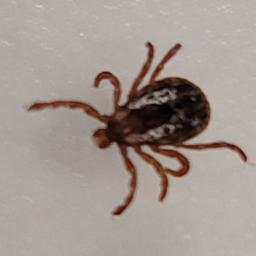Dermacentor variabilis: (26, 41, 246, 217)
